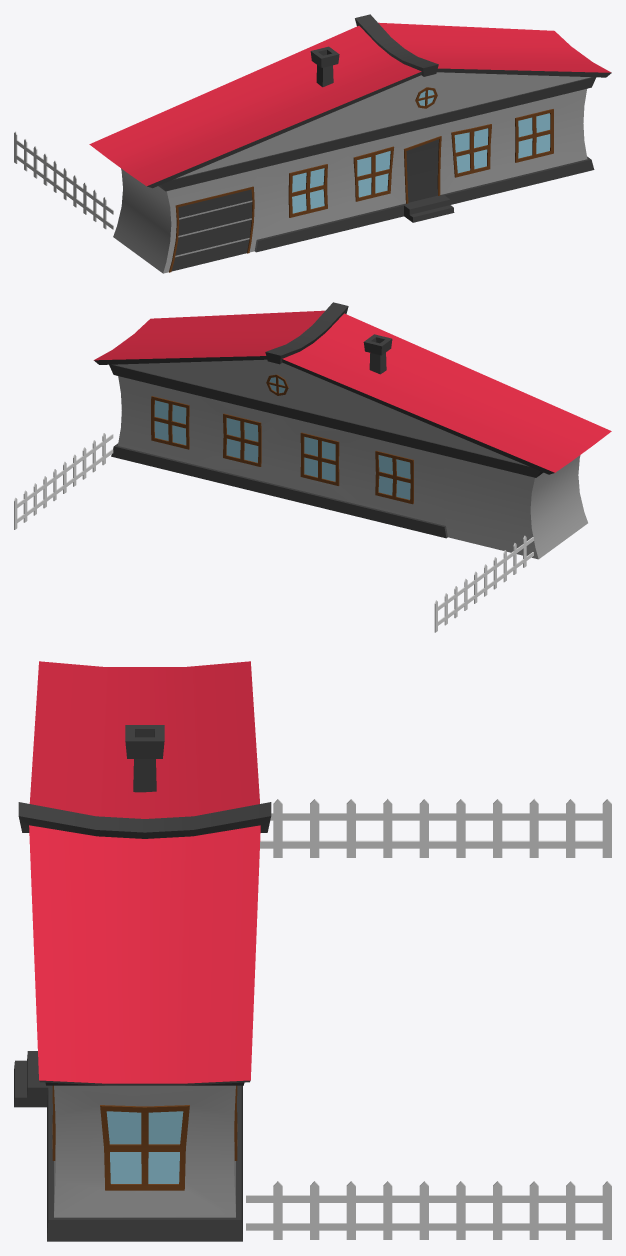
The model's file is house.fbx.
3 views of the same model, one above another, from view 1: azimuth 30°, elevation 25°; view 2: azimuth 150°, elevation 25°; view 3: azimuth 270°, elevation 25° (orthographic). The views are drawn at different scales.
Visible parts, largest first — view 1: Cube, Plane; view 2: Cube, Plane; view 3: Cube, Plane.
Part boxes in pixels (x1,y1,x2,y2): Cube: (89,14,611,273); Plane: (14,131,113,229); Cube: (93,302,611,559); Plane: (14,433,533,632); Cube: (14,661,271,1241); Plane: (246,799,611,1239).
Size of the model in its own units: 3363 by 1085 by 2027.
